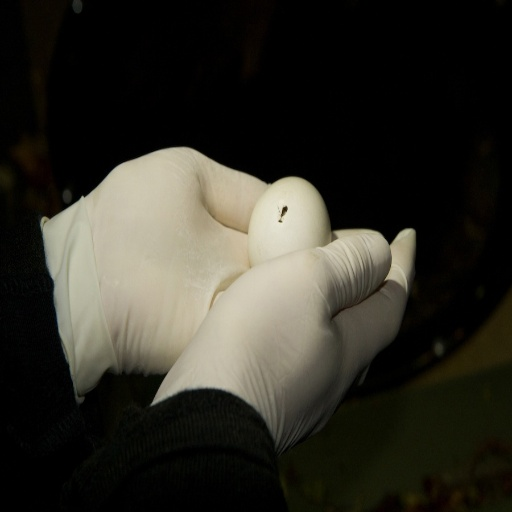hand: (85, 145, 375, 377)
